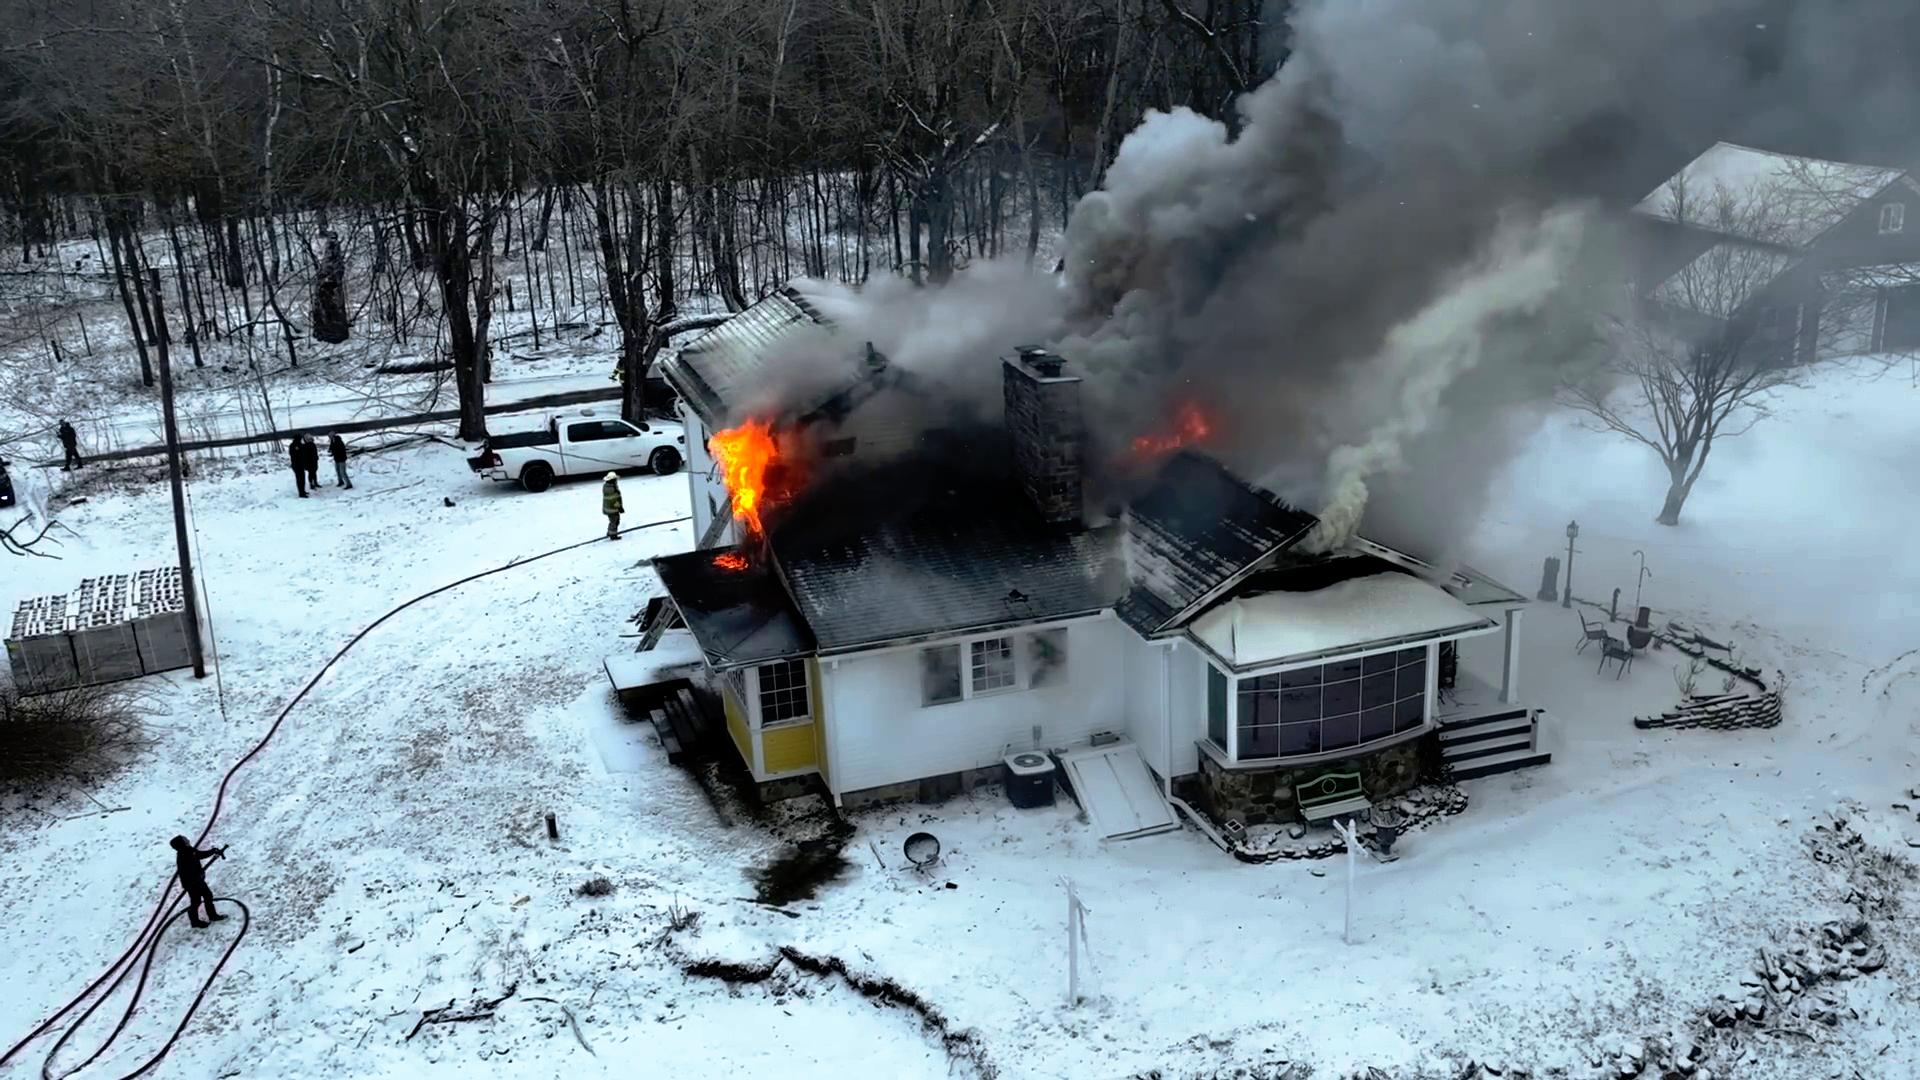fire: (700, 396, 793, 530)
